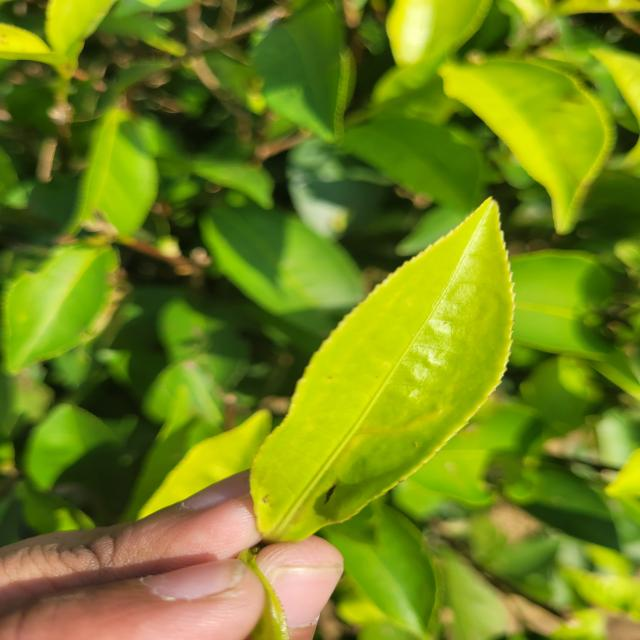Catagory A 1-2 days: (234, 176, 536, 545)
